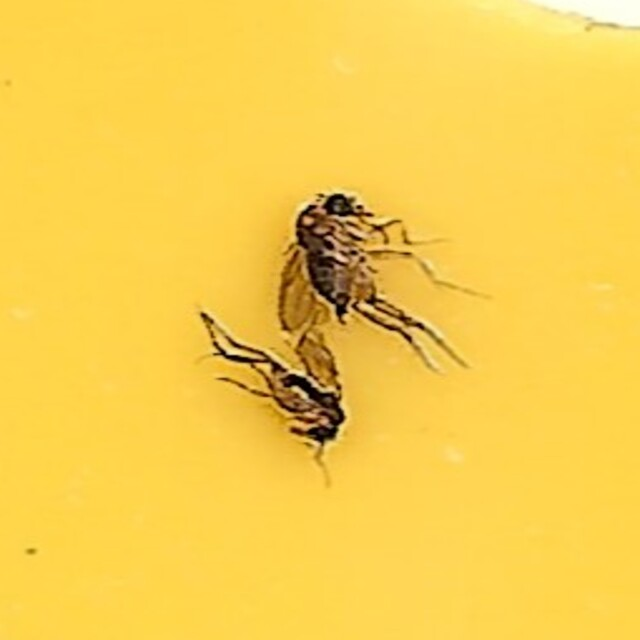Brachycera: (286, 190, 389, 325), (251, 359, 349, 450)
